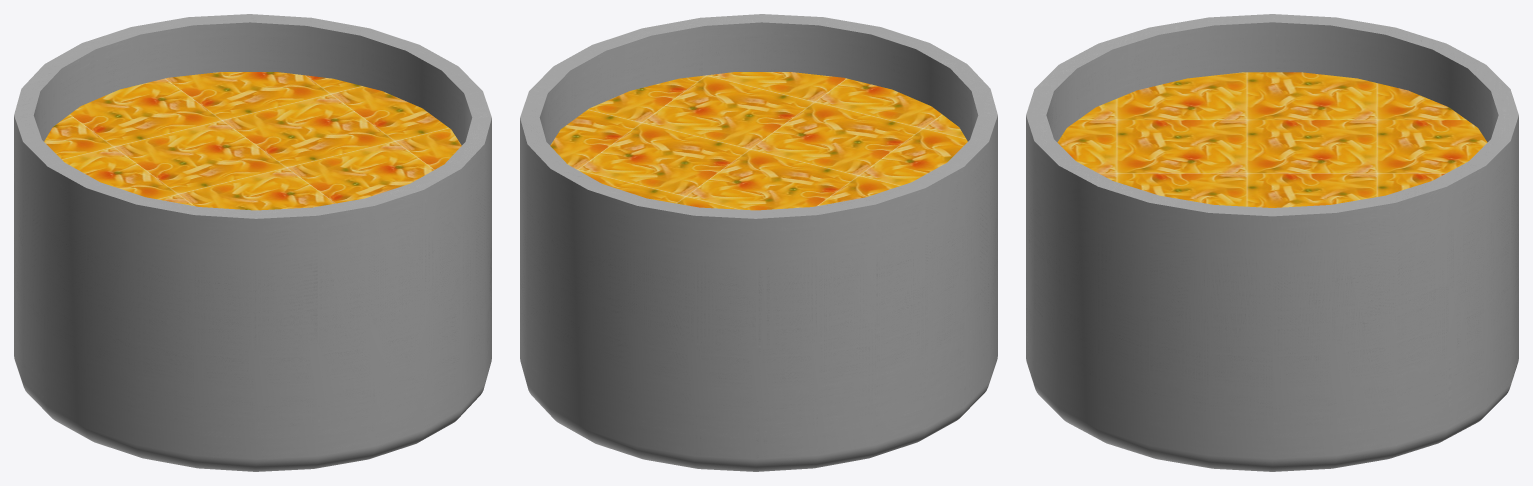
File: c-soup.dae
The picture shows the model from 3 angles, left to right: view 1: azimuth 30°, elevation 25°; view 2: azimuth 150°, elevation 25°; view 3: azimuth 270°, elevation 25°; orthographic projection.
Parts seen in each view (by area): view 1: SketchUp, SketchUp_002; view 2: SketchUp, SketchUp_002; view 3: SketchUp, SketchUp_002.
Boxes of the visible parts, x1=… form: SketchUp: x1=14, y1=14, x2=491, y2=471; SketchUp_002: x1=44, y1=72, x2=461, y2=210; SketchUp: x1=520, y1=14, x2=997, y2=471; SketchUp_002: x1=550, y1=72, x2=967, y2=210; SketchUp: x1=1026, y1=14, x2=1518, y2=471; SketchUp_002: x1=1057, y1=72, x2=1487, y2=207.
Bounding box in the file's own units: 0.4186 × 0.4309 × 0.2558.
Materials: 2 (2 with a texture image).
